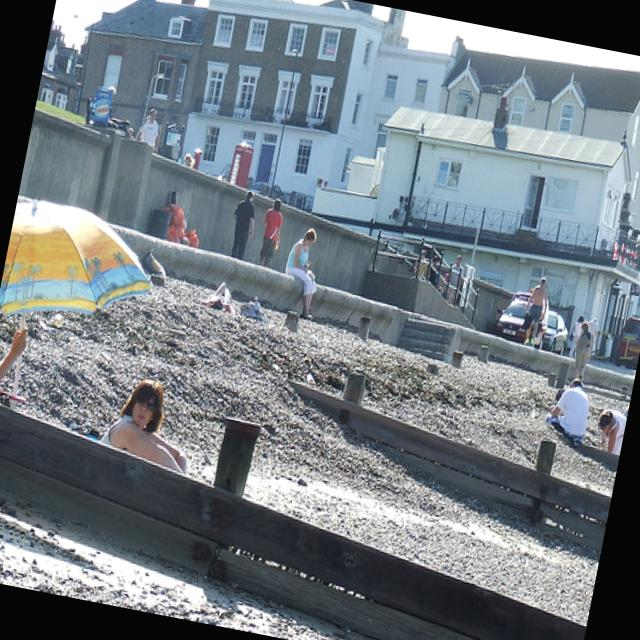Vehicle: (493, 294, 538, 345), (611, 313, 640, 371), (541, 313, 573, 357)
